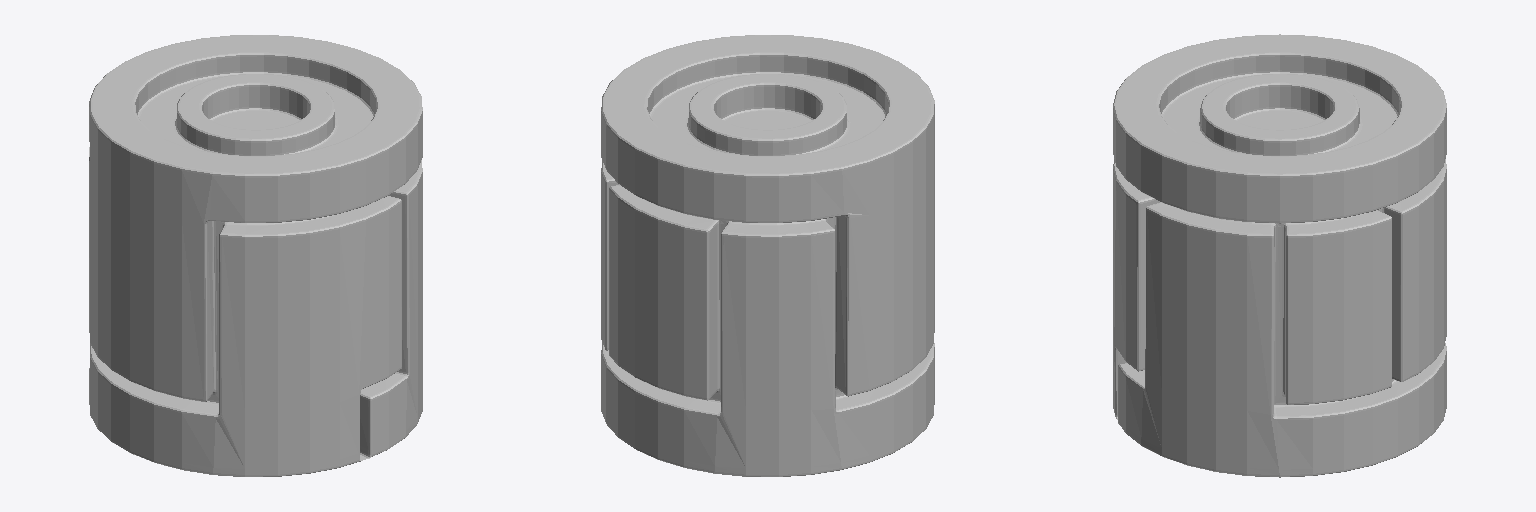
The model's file is technoSphere.obj.
3 views of the same model, side by side, from view 1: azimuth 30°, elevation 25°; view 2: azimuth 150°, elevation 25°; view 3: azimuth 270°, elevation 25° (orthographic).
Visible parts, largest first — view 1: Cylinder; view 2: Cylinder; view 3: Cylinder.
Part boxes in pixels (x1,y1,x2,y2): Cylinder: (89,35,422,476); Cylinder: (601,35,934,476); Cylinder: (1113,34,1446,477).
Bounding box in the file's own units: 2 × 2 × 2.